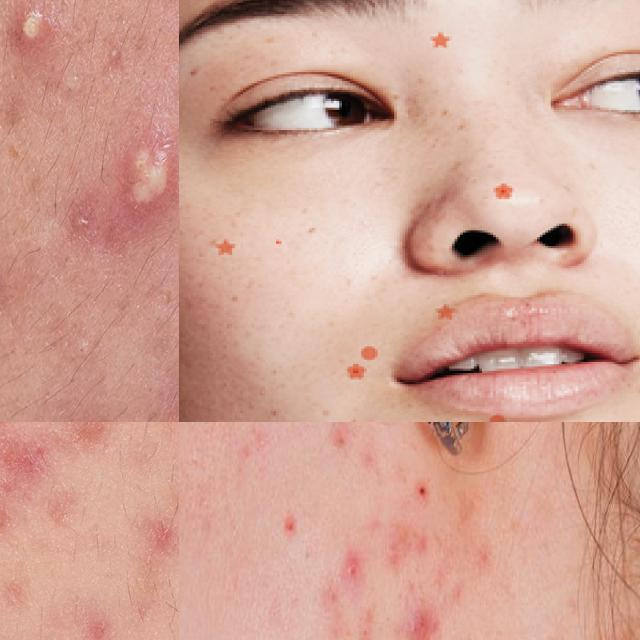crystanlline: (118, 136, 179, 231), (404, 594, 434, 640)
papule: (344, 548, 365, 598)
pustule: (4, 0, 68, 64)
